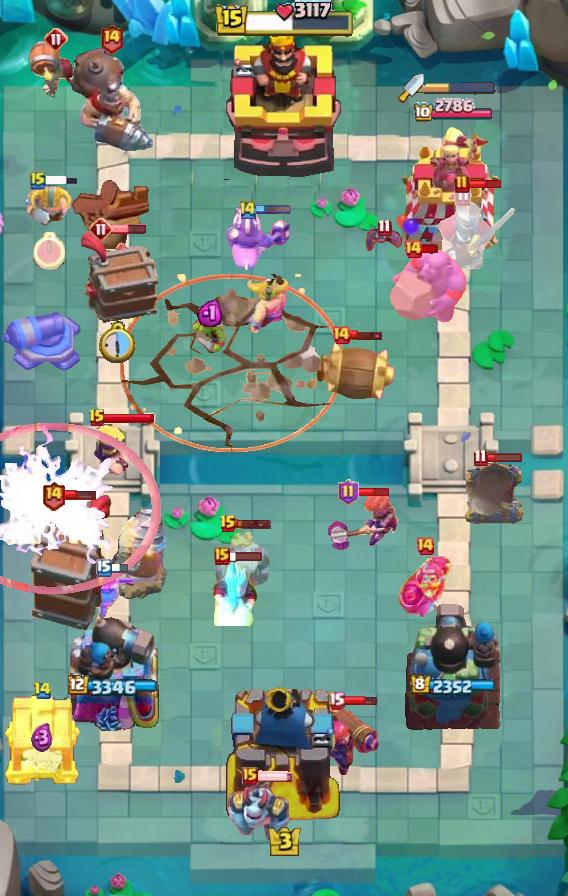archer-queen: (388, 245, 466, 325)
arrows: (85, 423, 135, 477)
bar: (394, 126, 512, 256)
barbarian-barrel: (364, 226, 404, 254)
barbarian-evolution: (0, 421, 162, 594)
bomb: (2, 692, 82, 786)
clock: (213, 0, 355, 40)
dart-goblin: (29, 493, 113, 631), (77, 231, 159, 325)
electro-spirit: (197, 297, 222, 326), (31, 723, 53, 753)
elixir: (98, 320, 137, 363), (33, 232, 65, 270)
elixir-golem-small: (226, 777, 294, 843)
emote: (103, 412, 155, 424), (342, 693, 378, 707), (256, 770, 294, 782), (235, 518, 272, 530), (43, 174, 79, 186), (256, 204, 292, 216), (111, 223, 147, 235), (348, 329, 384, 341), (227, 550, 263, 562), (469, 178, 504, 190), (357, 486, 392, 498), (485, 453, 523, 464), (63, 489, 97, 501), (420, 243, 439, 255), (111, 563, 130, 574)
firecracker-evolution: (398, 555, 452, 617)
freeze: (226, 205, 292, 275)
goblin-giant: (245, 277, 289, 333), (25, 183, 73, 226)
guard: (120, 274, 344, 454)
hog-rider: (89, 566, 137, 620)
king-tower: (224, 29, 344, 181), (223, 680, 345, 826)
king-tower-bar: (424, 81, 496, 95)
knight: (28, 40, 84, 100)
magic-archer: (108, 508, 168, 600)
mega-minion: (321, 697, 381, 777)
mortar: (210, 552, 260, 626)
mortar-evolution: (214, 529, 270, 595)
musketeer: (462, 461, 526, 527)
royal-recruit: (0, 310, 82, 380)
selected: (68, 674, 160, 698), (414, 98, 495, 124), (410, 675, 496, 697)
tesla-evolution: (327, 489, 399, 551)
text: (99, 23, 124, 54), (41, 480, 66, 511), (44, 27, 68, 51), (89, 217, 113, 241), (337, 479, 359, 505), (238, 199, 258, 221), (403, 239, 423, 259), (331, 325, 351, 345), (415, 536, 435, 556), (33, 680, 52, 699), (88, 408, 106, 428), (219, 514, 237, 534), (30, 170, 46, 190), (454, 174, 470, 194), (327, 691, 344, 709), (214, 547, 230, 565), (96, 559, 112, 577), (242, 767, 258, 785), (376, 218, 391, 237), (472, 449, 487, 468)
the-log: (314, 340, 398, 402)
tower-bar: (403, 601, 503, 731), (68, 611, 160, 731)
wall-breaker-evolution: (433, 186, 517, 276)
wizard: (67, 46, 155, 154)
zap: (190, 313, 228, 355)
